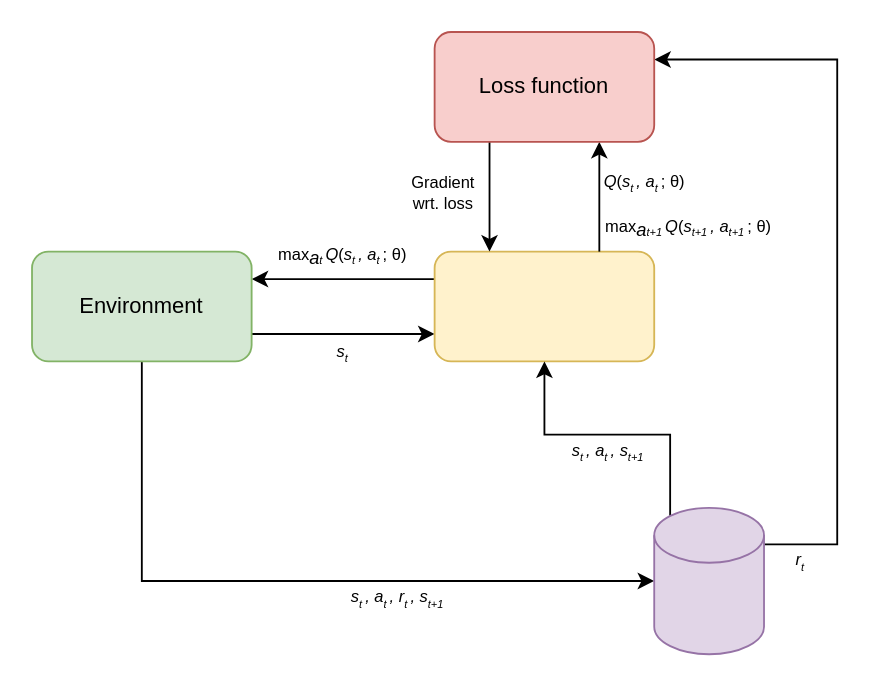
The diagram is 884 pixels wide and 686 high, and some of its shapes have lost their labels. Each missing label, with the centre of its shape:
Q-network: point (543, 305)
Replay Buffer: point (708, 580)
